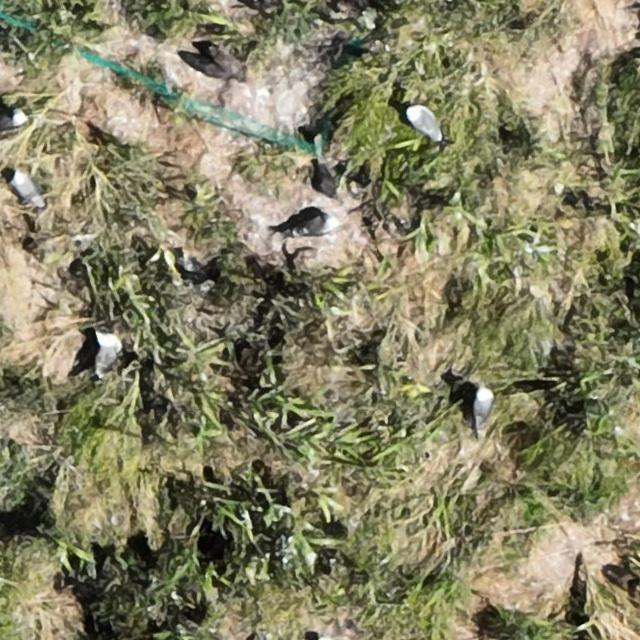umineko: (407, 107, 440, 140), (96, 335, 119, 371), (13, 174, 39, 205), (296, 217, 330, 237), (474, 390, 491, 425), (1, 112, 25, 132)
